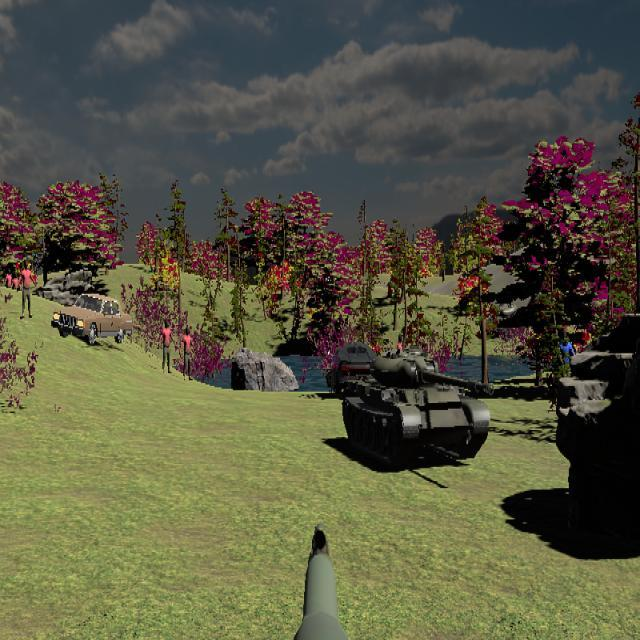Human: (17, 259, 37, 319), (157, 318, 177, 375), (179, 326, 196, 382)
Tank: (341, 346, 491, 466)
car: (51, 293, 143, 345)
